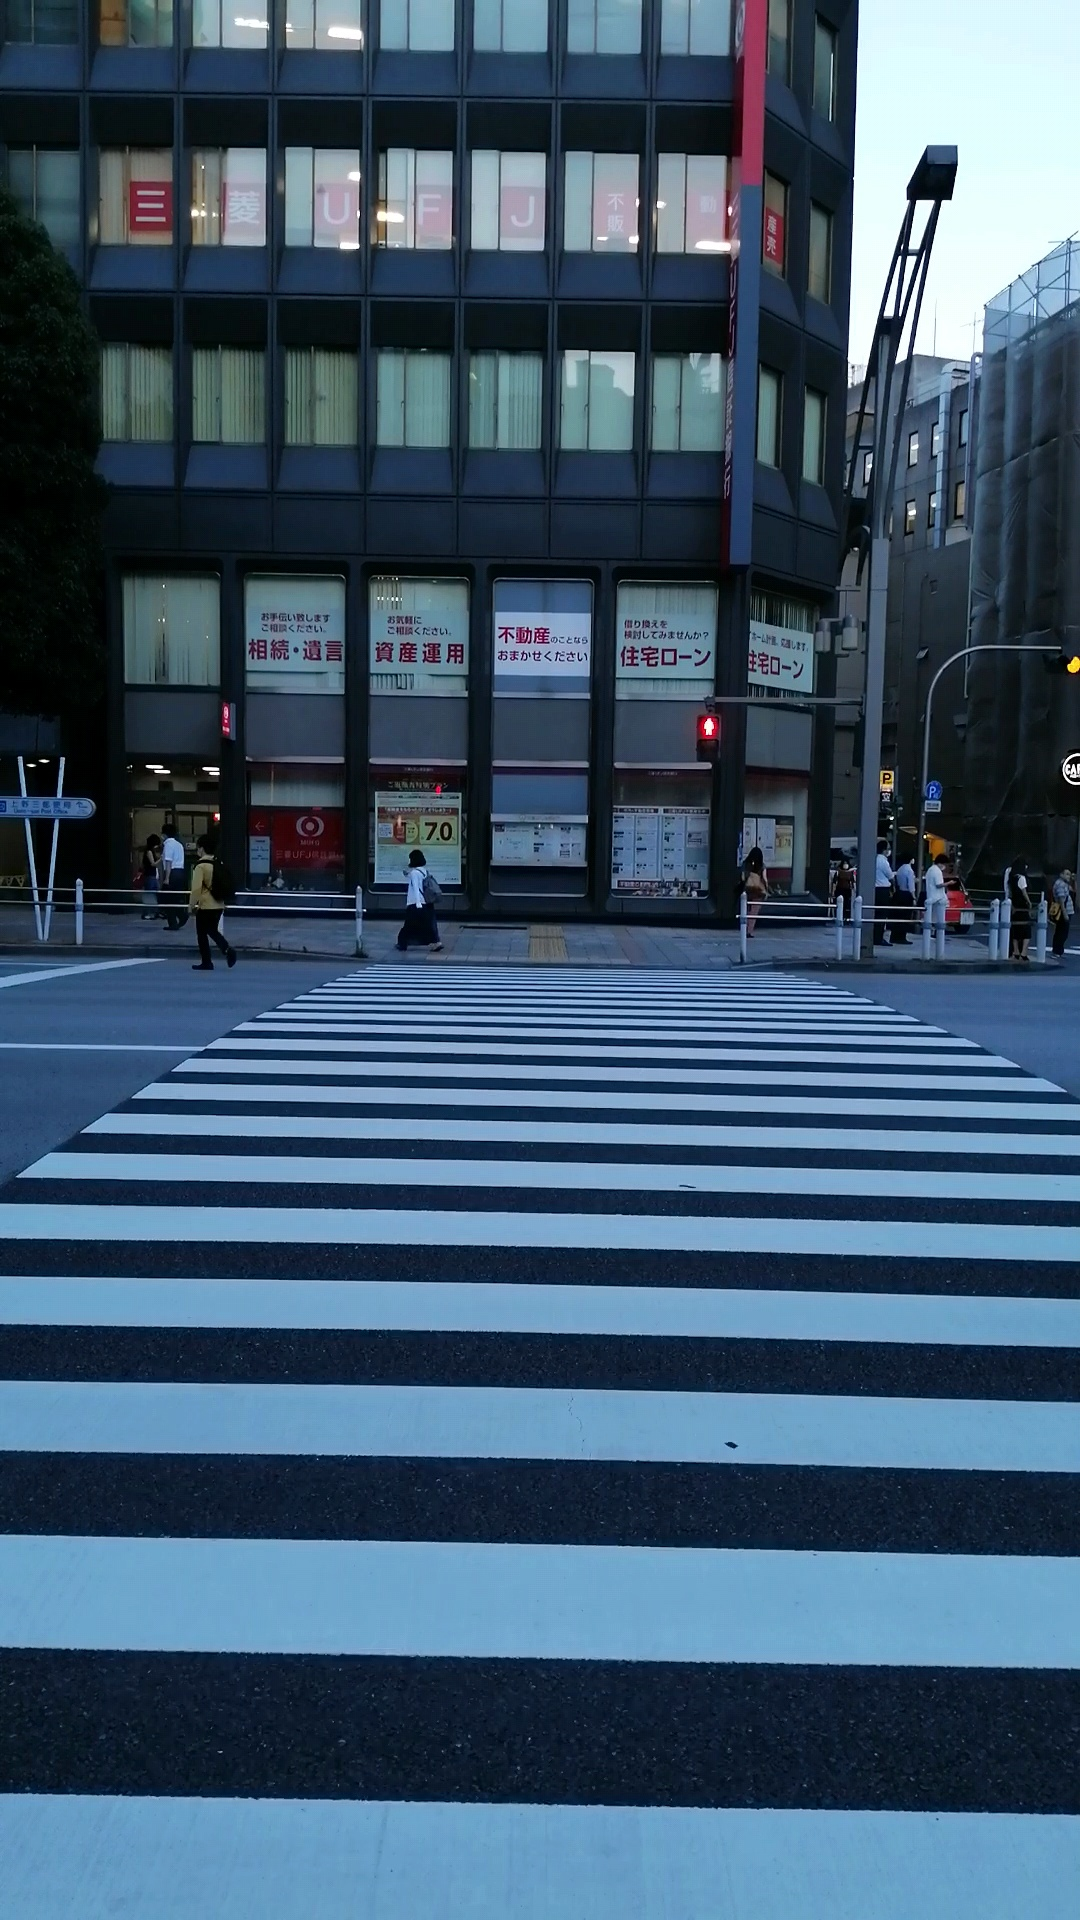red: (696, 713, 721, 766)
